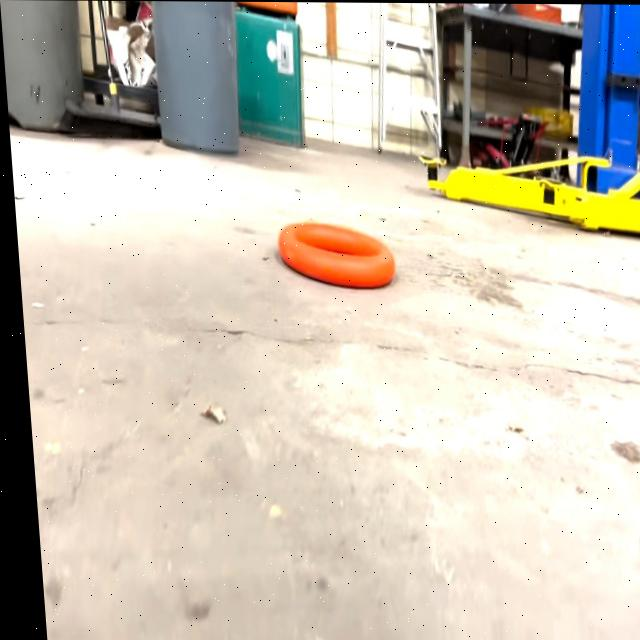note: (271, 216, 396, 295)
